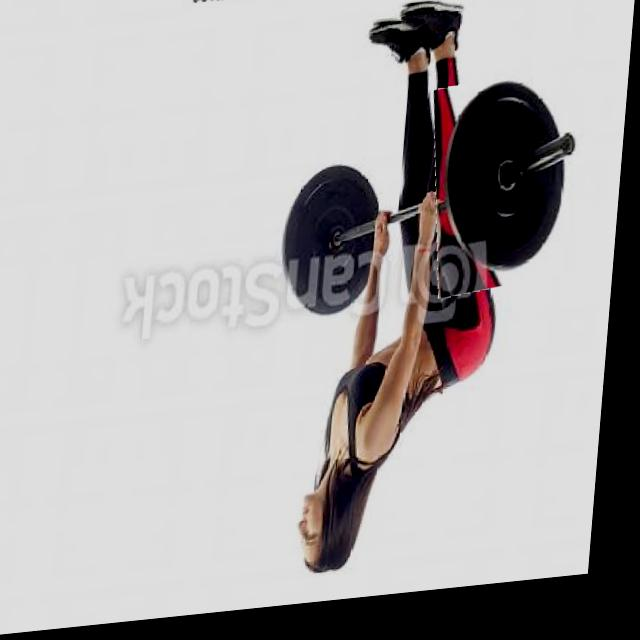barbell: (429, 76, 605, 308)
